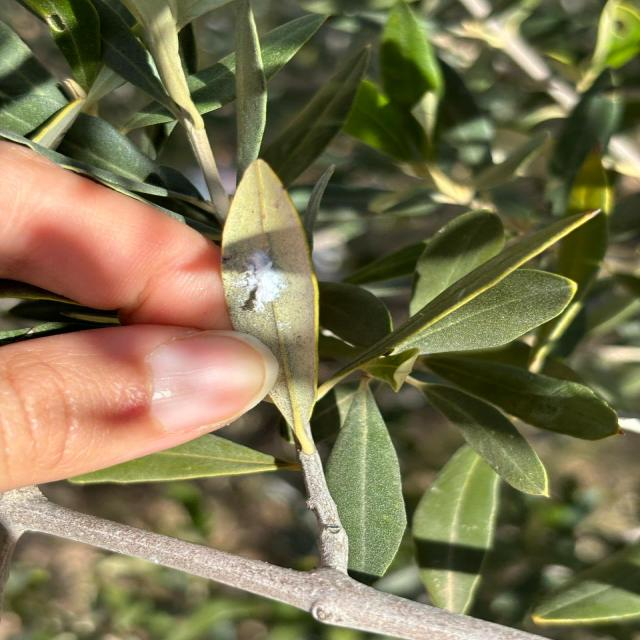Psyllid: (223, 248, 317, 329)
